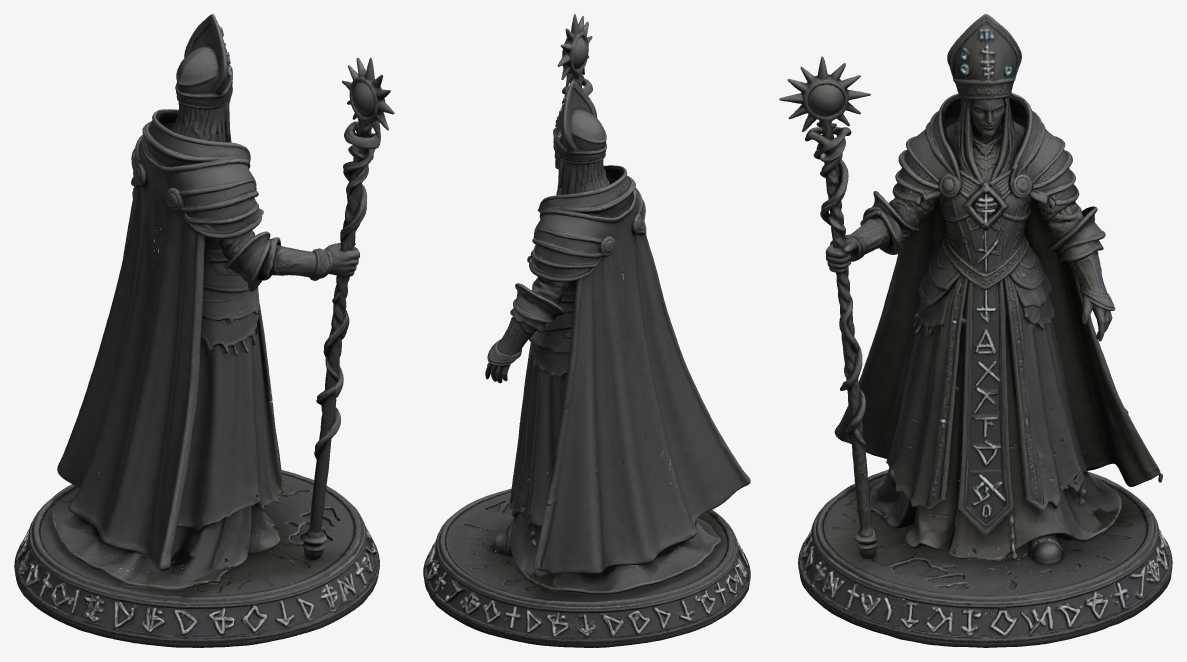
File: bishop.glb
3 renders of one model, left to right at view 1: azimuth 30°, elevation 25°; view 2: azimuth 150°, elevation 25°; view 3: azimuth 270°, elevation 25°, orthographic. The views are drawn at different scales.
Visible parts, largest first — view 1: Object_9, Object_6, Object_7, Object_8, Object_5, Object_10, Object_3, Object_4, Object_2; view 2: Object_2, Object_3, Object_4, Object_5, Object_9, Object_7, Object_6, Object_10, Object_8; view 3: Object_5, Object_6, Object_9, Object_4, Object_2, Object_7, Object_3, Object_8, Object_10.
Part boxes in pixels (x1,y1,x2,y2): Object_9: (62,124,359,625); Object_6: (14,14,378,644); Object_7: (62,67,379,647); Object_8: (61,57,394,647); Object_5: (21,14,379,612); Object_10: (19,16,361,622); Object_3: (14,127,291,587); Object_4: (16,109,307,619); Object_2: (18,206,314,565); Object_2: (423,272,651,647); Object_3: (425,208,727,646); Object_4: (424,174,743,647); Object_5: (427,80,741,625); Object_9: (446,165,746,595); Object_7: (484,45,750,593); Object_6: (436,80,750,642); Object_10: (443,84,743,629); Object_8: (557,14,750,598); Object_5: (865,14,1139,647); Object_6: (825,14,1025,647); Object_9: (896,93,1020,633); Object_4: (966,93,1104,645); Object_2: (1010,205,1172,644); Object_7: (806,76,1001,647); Object_3: (961,124,1155,633); Object_8: (779,56,965,628); Object_10: (936,15,1026,643).
Size of the model in its own units: 0.6009 by 1 by 0.632.
1 material, 1 textured.
